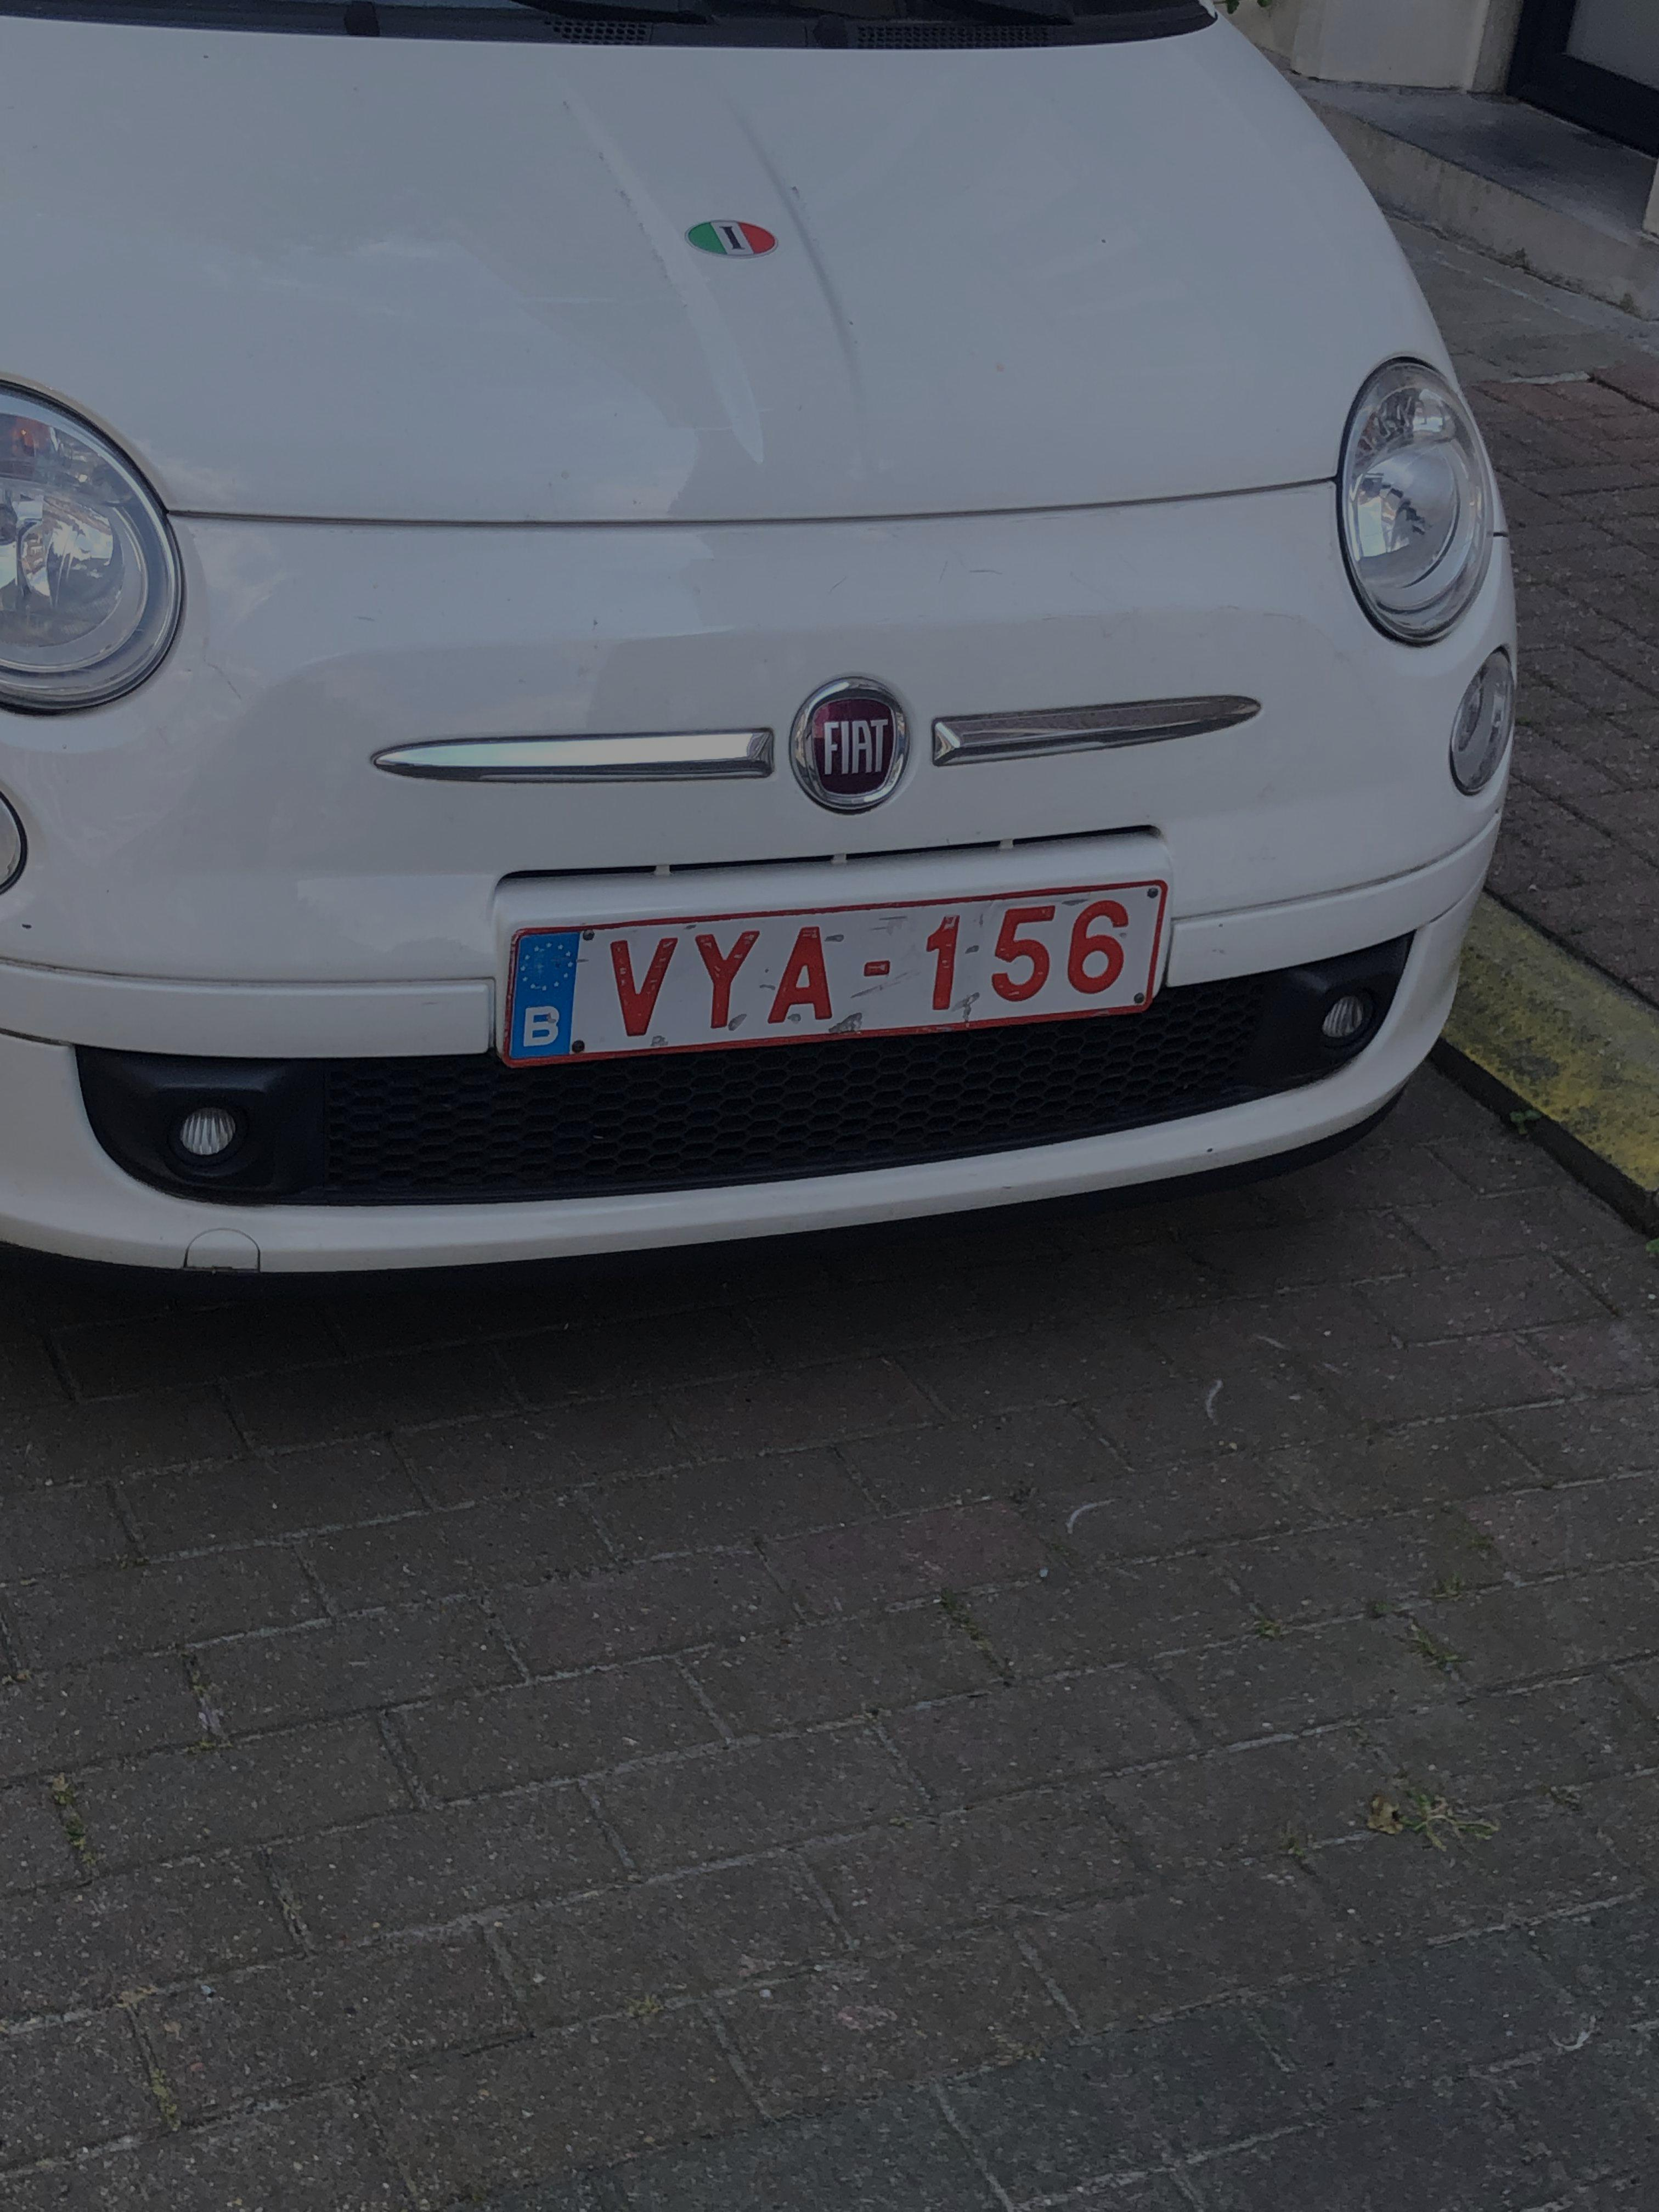plate: (480, 867, 1177, 1073)
